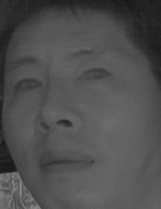eye: (77, 64, 114, 87), (12, 74, 46, 96)
mouth: (39, 144, 96, 181)
